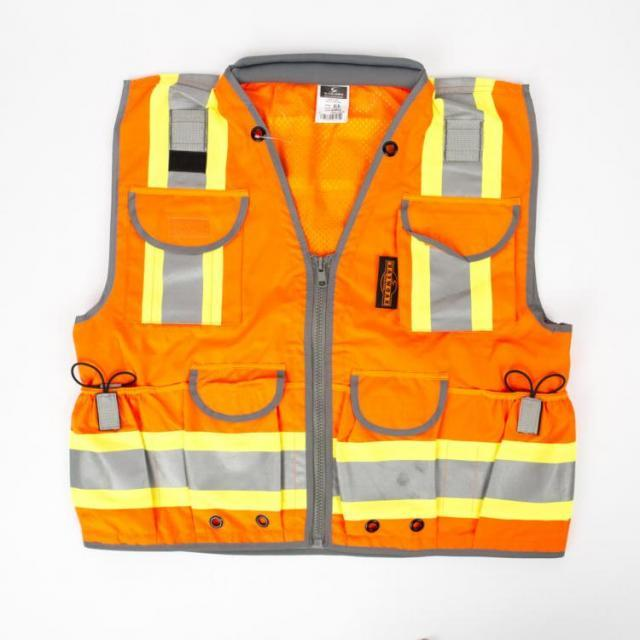construction-vest: (76, 56, 572, 554)
